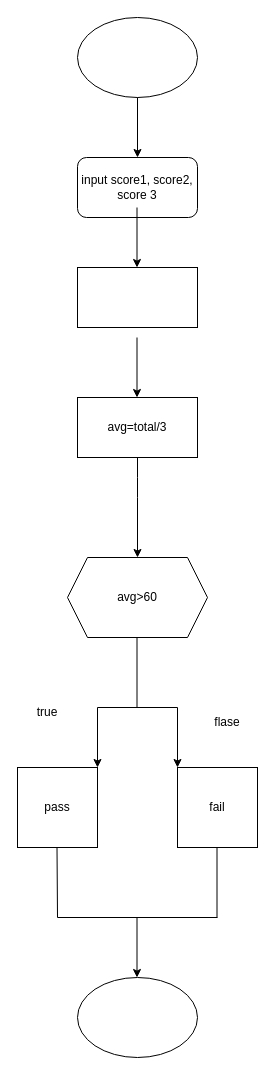
This 275x1075 diagram has some shape labels left out. Each missing label, with the centre of its shape:
"end" belongs at pixel 137 1017.
"Start" belongs at pixel 137 57.
"total= score1+ score2+ score 3" belongs at pixel 137 297.
